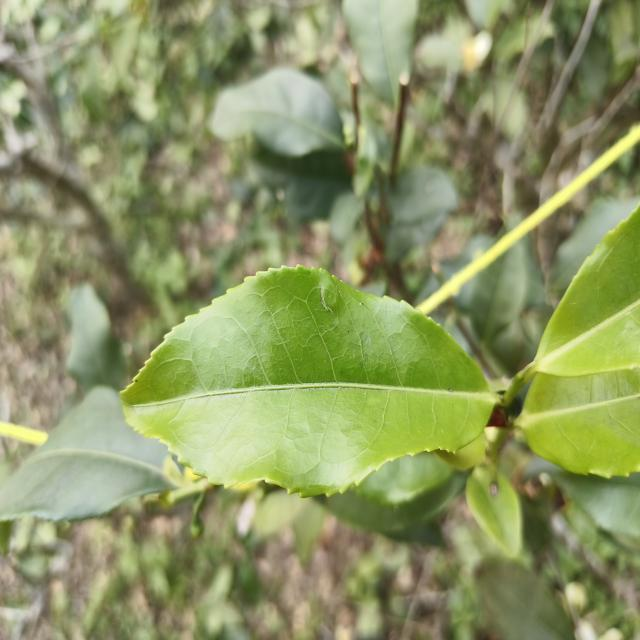Leaf: (122, 266, 494, 496), (0, 387, 172, 521), (521, 208, 640, 381), (517, 369, 640, 477), (319, 452, 464, 535), (211, 68, 344, 156), (551, 196, 640, 295), (342, 0, 418, 107), (475, 558, 574, 640), (254, 150, 351, 220), (551, 467, 640, 538), (67, 284, 125, 392), (468, 240, 528, 344), (466, 465, 522, 557), (389, 166, 457, 221)
